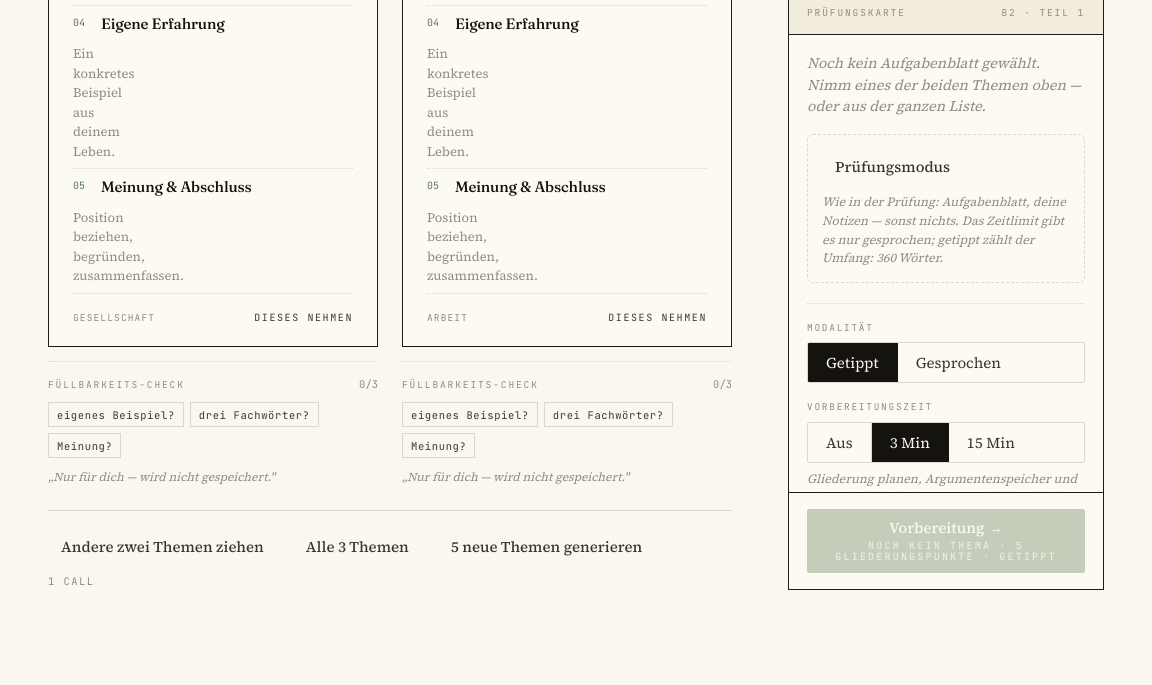
Test: Teil1Setup — control bar › "Alle N Themen" toggles the ledger list
(page scrolled)
What coordinates should you click on to do the following:
click the button "Alle 3 Themen"
I would click on:
 (357, 546)
Its box is [293,528,422,564].
(page scrolled)
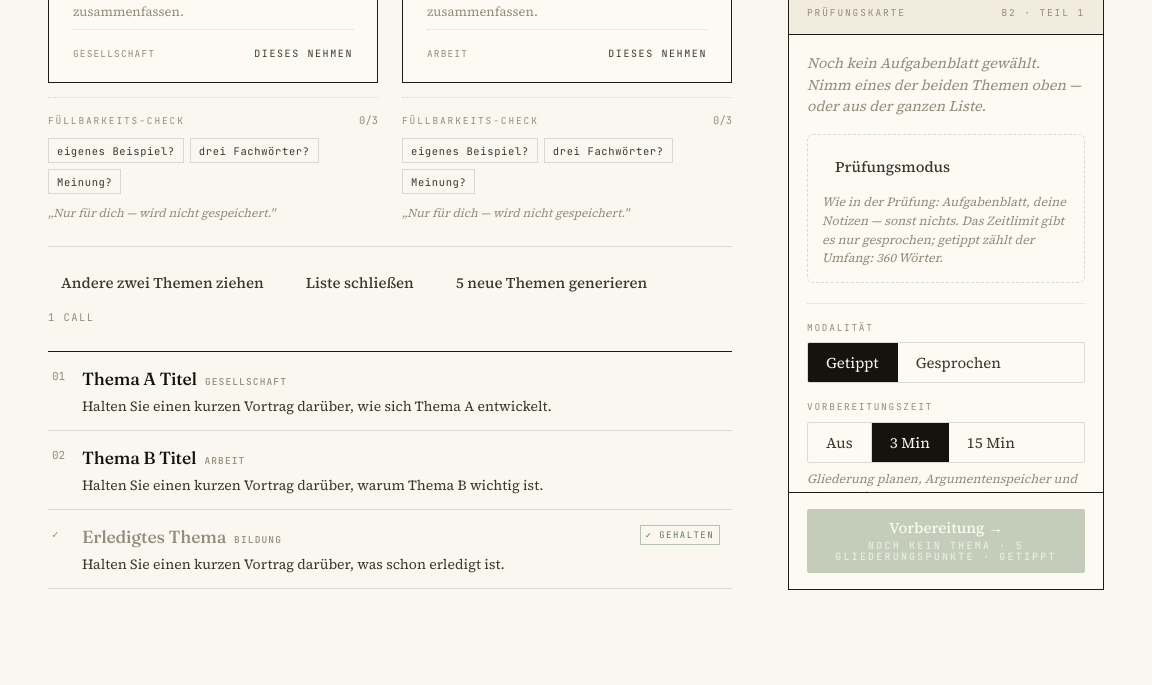
Result: the element with class "spr-tlist" is shown at [48,351,732,589]
Result: the number of buttons with class "spr-titem" is 3 at [48,352,732,431]; [48,431,732,510]; [48,510,732,589]
